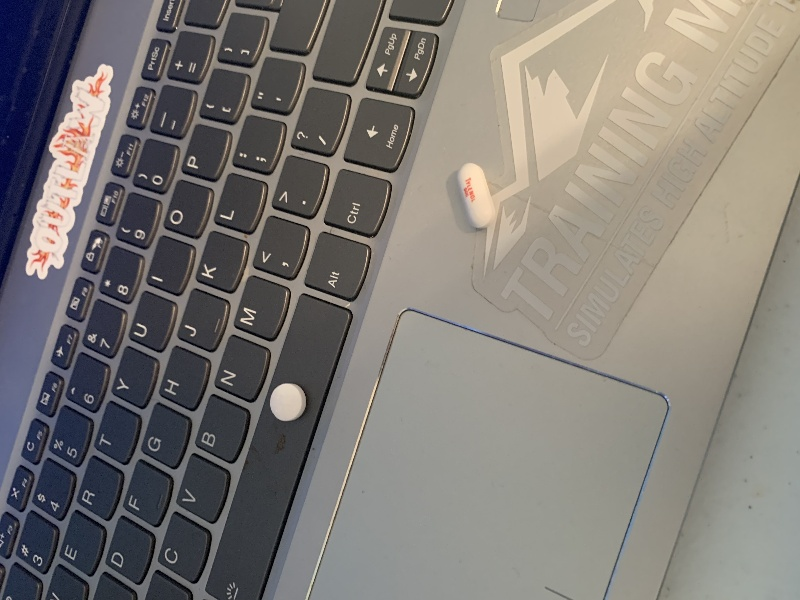Aspirin: (265, 379, 309, 425)
Tylenol: (454, 160, 501, 231)
